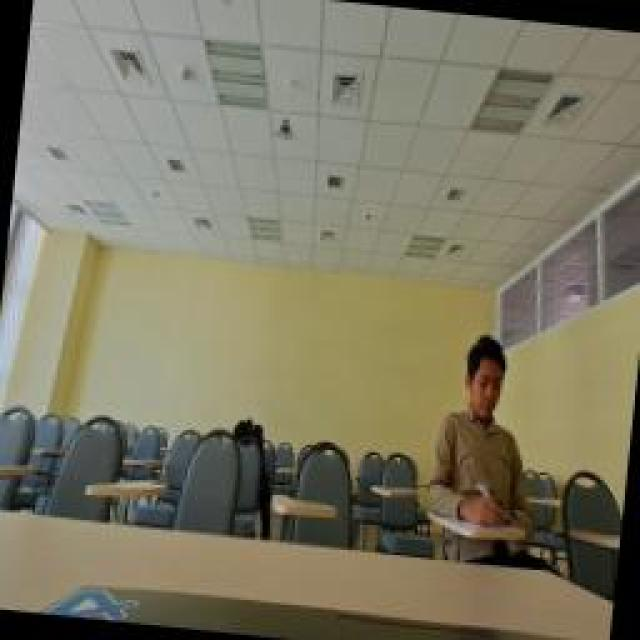sleep: (233, 413, 265, 445)
study: (425, 330, 547, 532)
